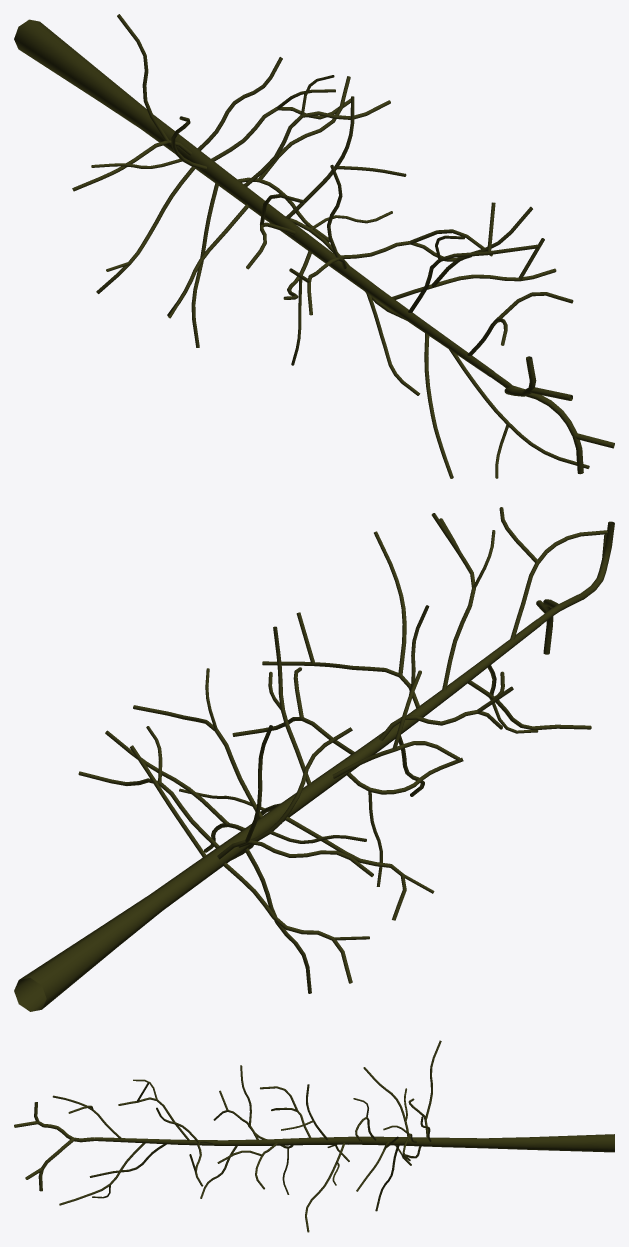
Rendered from tree.obj.
3 views of the same model, one above another, from view 1: azimuth 30°, elevation 25°; view 2: azimuth 150°, elevation 25°; view 3: azimuth 270°, elevation 25° (orthographic). The views are drawn at different scales.
Visible parts, largest first — view 1: tree; view 2: tree; view 3: tree.
Part boxes in pixels (x1,y1,x2,y2): tree: (14, 14, 614, 478); tree: (14, 507, 614, 1011); tree: (14, 1040, 614, 1232).
Bounding box in the file's own units: 0.8349 × 0.8078 × 2.67.
